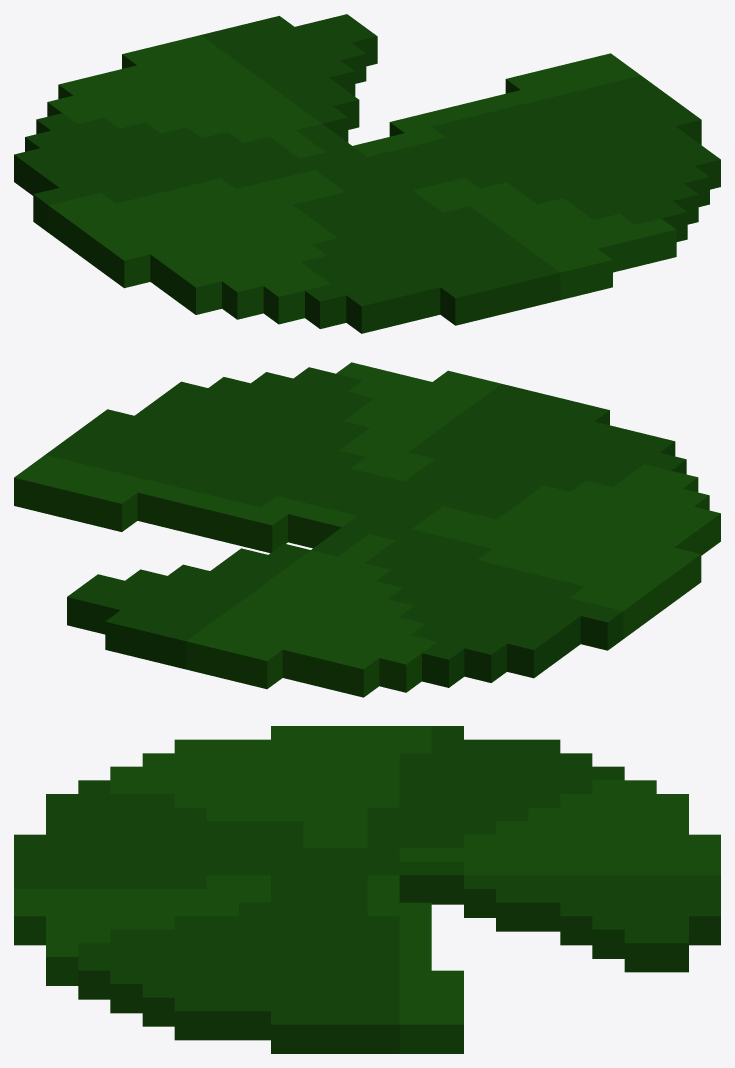
The model's file is waterlilyNoFlower.obj.
The picture shows the model from 3 angles, top to bottom: view 1: azimuth 30°, elevation 25°; view 2: azimuth 150°, elevation 25°; view 3: azimuth 270°, elevation 25°; orthographic projection. The views are drawn at different scales.
Parts seen in each view (by area): view 1: waterlilyNoFlower; view 2: waterlilyNoFlower; view 3: waterlilyNoFlower.
Boxes of the visible parts, x1,y1,x2,y2 form: waterlilyNoFlower: (14, 14, 720, 333); waterlilyNoFlower: (14, 362, 720, 697); waterlilyNoFlower: (14, 726, 720, 1053).
Bounding box in the file's own units: 22 × 1 × 22.
Materials: 1 (1 with a texture image).
